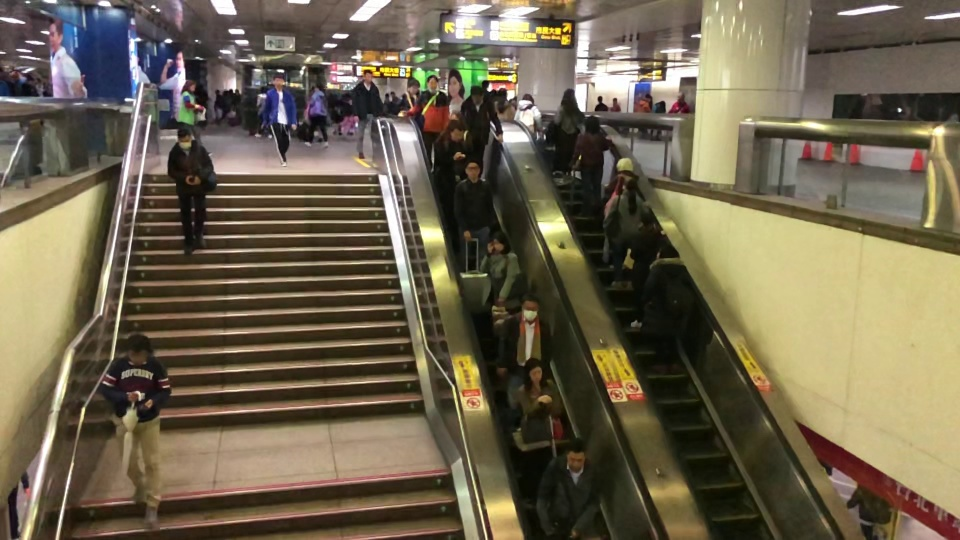person_head: (124, 332, 154, 364), (564, 436, 588, 473), (519, 292, 541, 323), (522, 357, 545, 386), (487, 231, 512, 254), (446, 119, 466, 145), (461, 158, 483, 181), (654, 242, 680, 261), (448, 108, 467, 130), (638, 205, 656, 226), (582, 114, 600, 135), (558, 86, 577, 105), (176, 128, 193, 149), (614, 156, 633, 174), (469, 84, 483, 105), (271, 72, 286, 91), (406, 77, 420, 95), (425, 73, 439, 91), (624, 178, 638, 194), (183, 79, 196, 94), (521, 92, 535, 105), (362, 69, 373, 84), (496, 87, 508, 100), (10, 68, 21, 82), (313, 81, 324, 92), (675, 91, 685, 102), (259, 84, 269, 94), (480, 79, 489, 89), (46, 84, 53, 95), (0, 65, 5, 80), (26, 76, 34, 85), (490, 88, 497, 97), (596, 95, 603, 104), (644, 93, 651, 102), (659, 99, 666, 108), (35, 78, 42, 86), (196, 82, 203, 90), (214, 89, 220, 96), (227, 88, 233, 95), (389, 91, 396, 97), (401, 93, 407, 100), (611, 97, 617, 104), (234, 89, 239, 97), (384, 92, 389, 99)
person_vbox: (98, 332, 172, 531), (493, 292, 554, 428), (509, 357, 563, 507), (642, 243, 694, 376), (535, 437, 602, 540), (166, 128, 214, 256), (477, 231, 522, 364), (431, 119, 482, 227), (396, 73, 449, 173), (567, 114, 614, 220), (627, 205, 666, 329), (452, 157, 493, 272), (542, 86, 585, 187), (608, 178, 646, 291), (601, 156, 638, 270), (460, 83, 504, 177), (260, 72, 297, 168), (350, 69, 384, 161), (844, 481, 892, 540), (175, 79, 204, 144), (433, 108, 473, 151), (304, 81, 329, 149), (512, 92, 544, 141), (8, 471, 30, 540), (387, 76, 421, 117), (8, 68, 25, 130), (254, 84, 272, 139), (633, 93, 652, 140), (648, 99, 666, 142), (494, 87, 516, 122), (195, 82, 209, 129), (667, 91, 690, 115), (608, 96, 622, 133), (34, 78, 45, 125), (212, 89, 223, 126), (21, 76, 40, 97), (0, 65, 10, 96), (397, 92, 411, 111), (223, 88, 233, 112), (593, 95, 608, 111), (231, 89, 241, 112), (380, 92, 390, 113), (480, 79, 491, 96), (389, 91, 401, 105)
